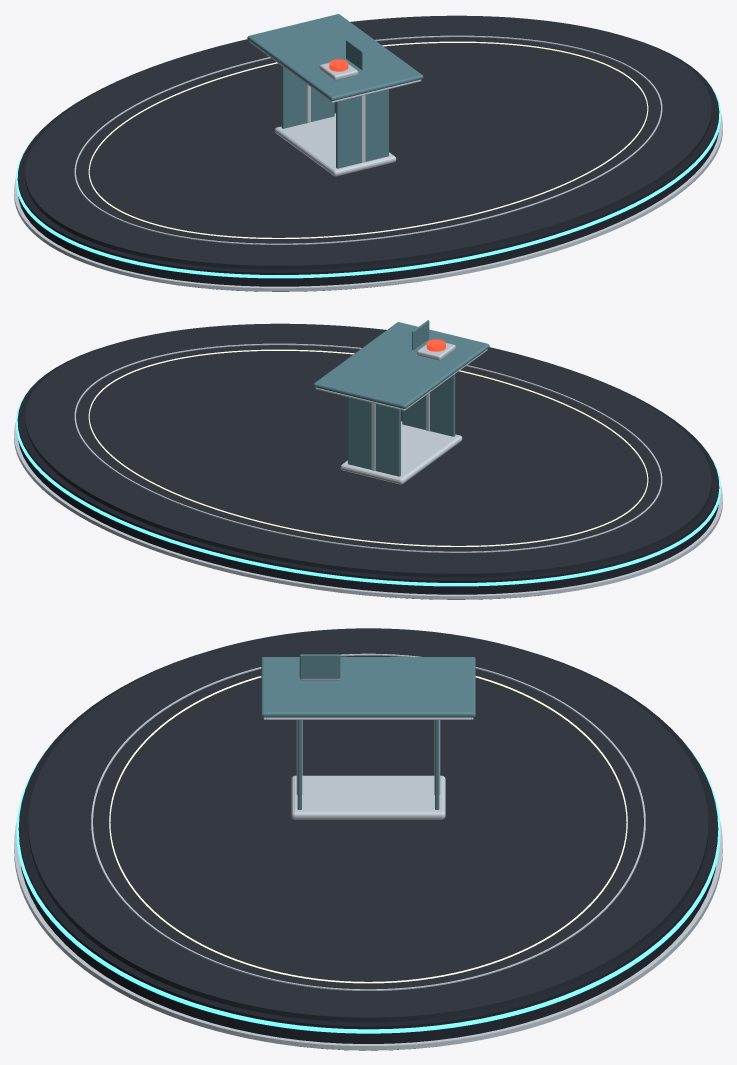
File: SM_GamePlatform.fbx
3 views of the same model, one above another, from view 1: azimuth 30°, elevation 25°; view 2: azimuth 150°, elevation 25°; view 3: azimuth 270°, elevation 25° (orthographic). The views are drawn at different scales.
Visible parts, largest first — view 1: SM_GamePlatform; view 2: SM_GamePlatform; view 3: SM_GamePlatform.
Boxes of the visible parts, x1,y1,x2,y2 form: SM_GamePlatform: [14, 14, 722, 291]; SM_GamePlatform: [14, 320, 722, 599]; SM_GamePlatform: [14, 628, 722, 1050].
Size of the model in its own units: 788 by 588 by 162.
